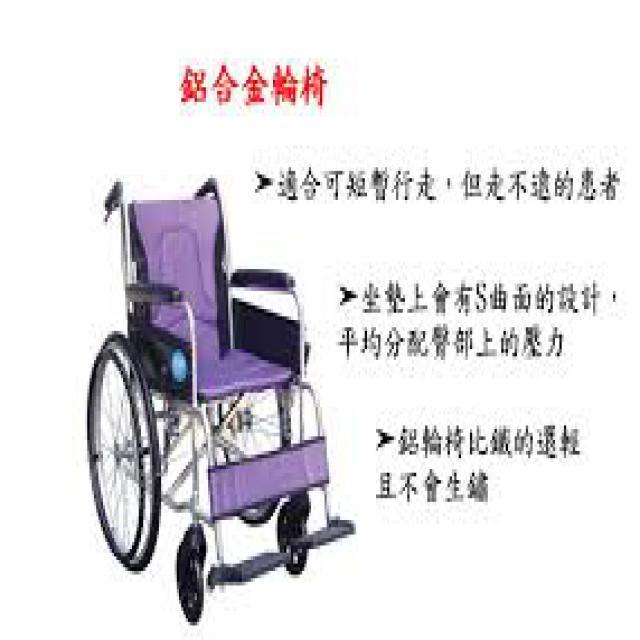wheelchair: (74, 167, 360, 629)
